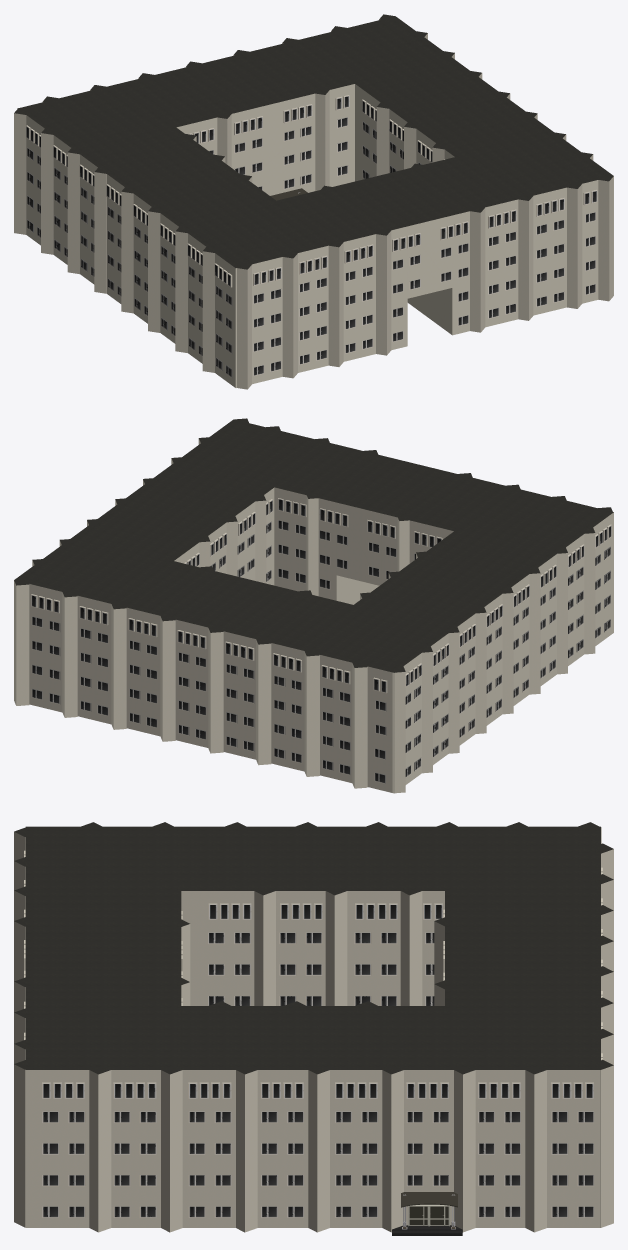
File: gup.gltf
3 views of the same model, one above another, from view 1: azimuth 30°, elevation 25°; view 2: azimuth 150°, elevation 25°; view 3: azimuth 270°, elevation 25° (orthographic). The views are drawn at different scales.
Visible parts, largest first — view 1: gup_64_StaticMeshComponent0; view 2: gup_64_StaticMeshComponent0; view 3: gup_64_StaticMeshComponent0.
Part boxes in pixels (x1,y1,x2,y2): gup_64_StaticMeshComponent0: (14, 14, 613, 389); gup_64_StaticMeshComponent0: (14, 418, 613, 793); gup_64_StaticMeshComponent0: (14, 822, 613, 1235).
Bounding box in the file's own units: 71.32 × 20.3 × 68.82.
10 materials, 8 textured.
